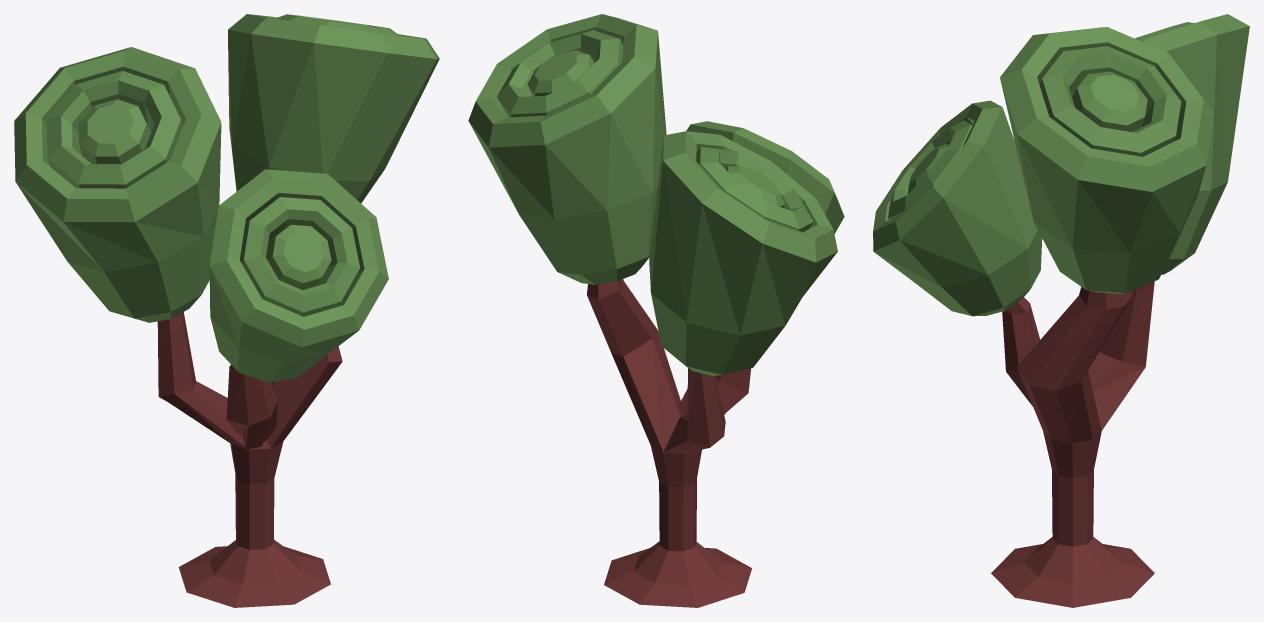
Rendered from tree-3.glb.
3 renders of one model, left to right at view 1: azimuth 30°, elevation 25°; view 2: azimuth 150°, elevation 25°; view 3: azimuth 270°, elevation 25°, orthographic. The views are drawn at different scales.
Parts seen in each view (by area): view 1: Cylinder.002; view 2: Cylinder.002; view 3: Cylinder.002.
Boxes of the visible parts, x1,y1,x2,y2 form: Cylinder.002: (14, 14, 439, 607); Cylinder.002: (468, 14, 844, 607); Cylinder.002: (873, 14, 1249, 607).
Bounding box in the file's own units: 9.86 × 13.6 × 8.19.
